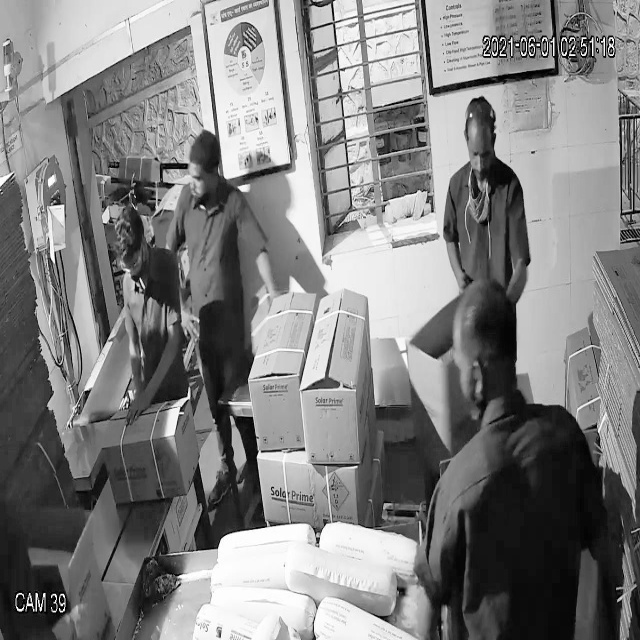Gafas: (110, 243, 154, 284)
Sin_gafas: (463, 132, 498, 169)
